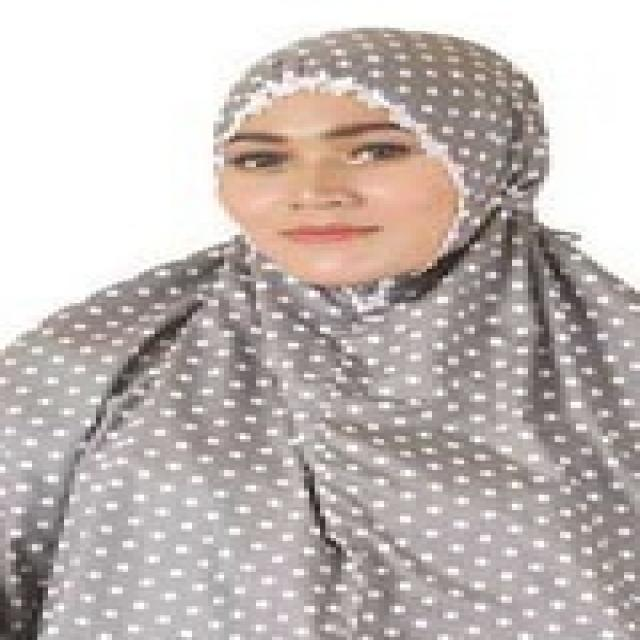head: (201, 27, 569, 294)
